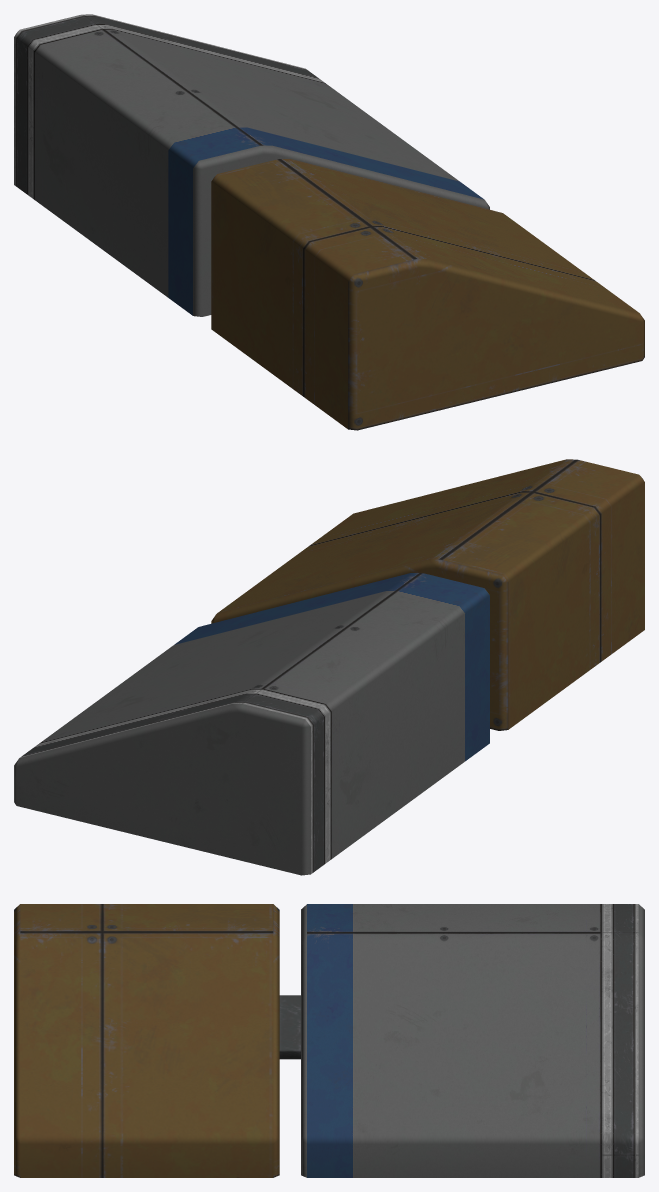
Rendered from Subway_wall_edge1_End1.fbx.
The picture shows the model from 3 angles, top to bottom: view 1: azimuth 30°, elevation 25°; view 2: azimuth 150°, elevation 25°; view 3: azimuth 270°, elevation 25°; orthographic projection. The views are drawn at different scales.
Parts seen in each view (by area): view 1: polySurface890; view 2: polySurface890; view 3: polySurface890.
Boxes of the visible parts, <box> form: polySurface890: <box>14,14,644,430</box>; polySurface890: <box>14,459,644,875</box>; polySurface890: <box>14,904,644,1177</box>.
Bounding box in the file's own units: 122 × 60.23 × 242.
